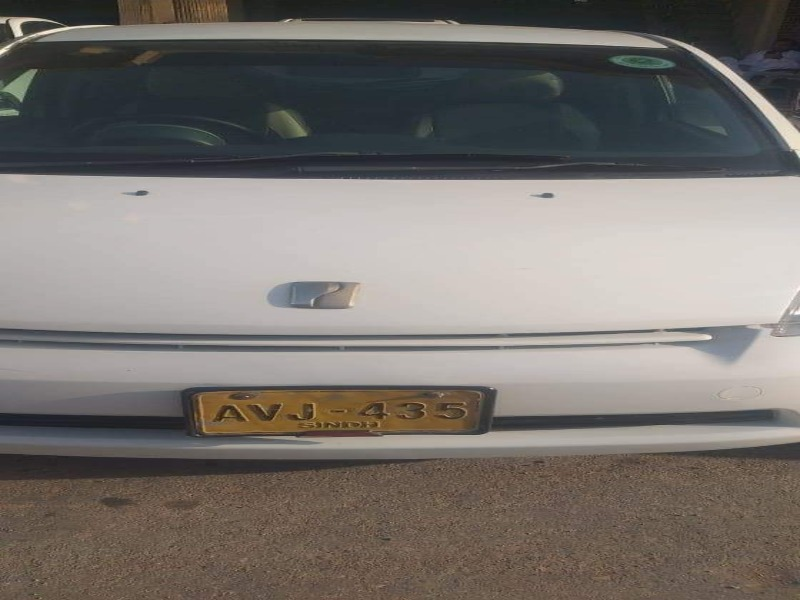License Plate: (185, 383, 496, 442)
